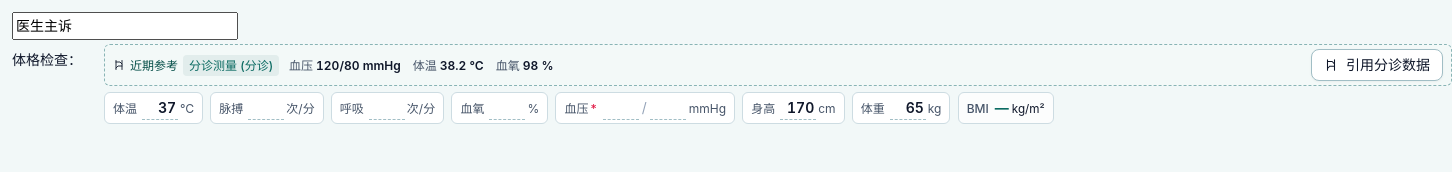
clinical vitals reference boundary › applies available measurements without erasing unrelated or missing fields
Replace the text in the number field named "体重" with "66": (908, 108) x1=890 y1=96 x2=926 y2=120
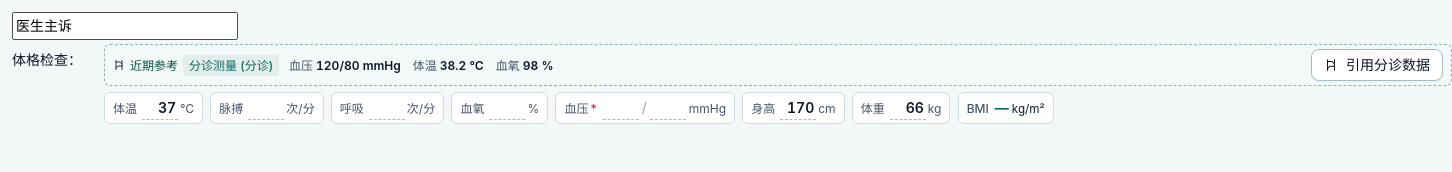
Click the button "引用分诊数据": (1377, 65) x1=1311 y1=49 x2=1443 y2=81
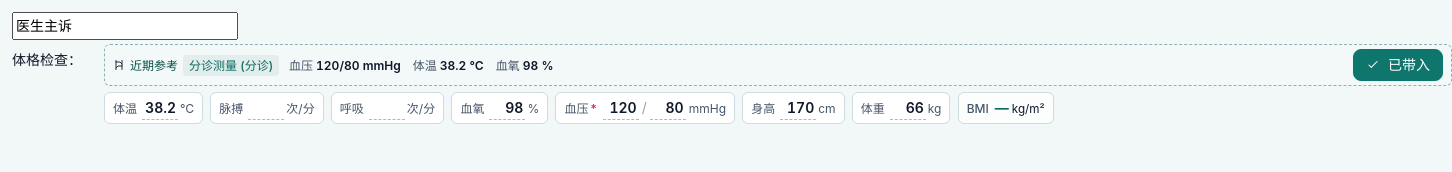
Now the number field named "收缩压" holds "120", box x1=603 y1=96 x2=639 y2=120
Now the number field named "舒张压" holds "80", box x1=650 y1=96 x2=686 y2=120
Now the number field named "体温" holds "38.2", box x1=142 y1=96 x2=178 y2=120
